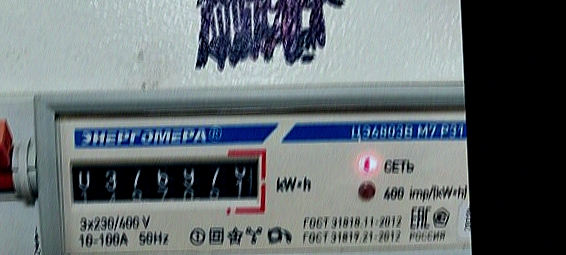0: (72, 166, 87, 189)
1: (230, 177, 242, 198)
3: (100, 169, 115, 190)
6: (151, 163, 167, 186)
7: (125, 165, 141, 189), (203, 163, 219, 187)
9: (177, 163, 192, 186)
screen: (57, 138, 269, 223)
